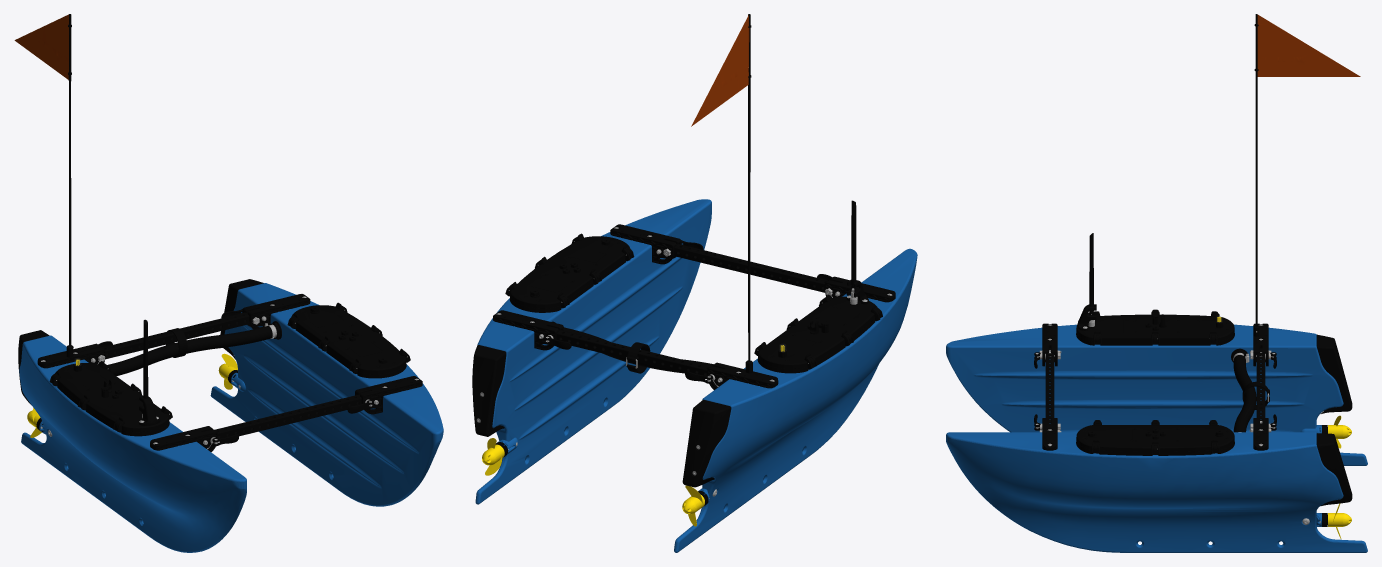
The model's file is blueboat-compressed.glb.
3 renders of one model, left to right at view 1: azimuth 30°, elevation 25°; view 2: azimuth 150°, elevation 25°; view 3: azimuth 270°, elevation 25°, orthographic. The views are drawn at different scales.
Visible parts, largest first — view 1: PUB-BR-101447_RevA070; view 2: PUB-BR-101447_RevA070; view 3: PUB-BR-101447_RevA070.
Part boxes in pixels (box(x1,y1,x2,y2)): PUB-BR-101447_RevA070: box(14, 14, 443, 552); PUB-BR-101447_RevA070: box(472, 14, 917, 552); PUB-BR-101447_RevA070: box(946, 14, 1367, 552).
Bounding box in the file's own units: 0.9256 × 1.39 × 1.2.
